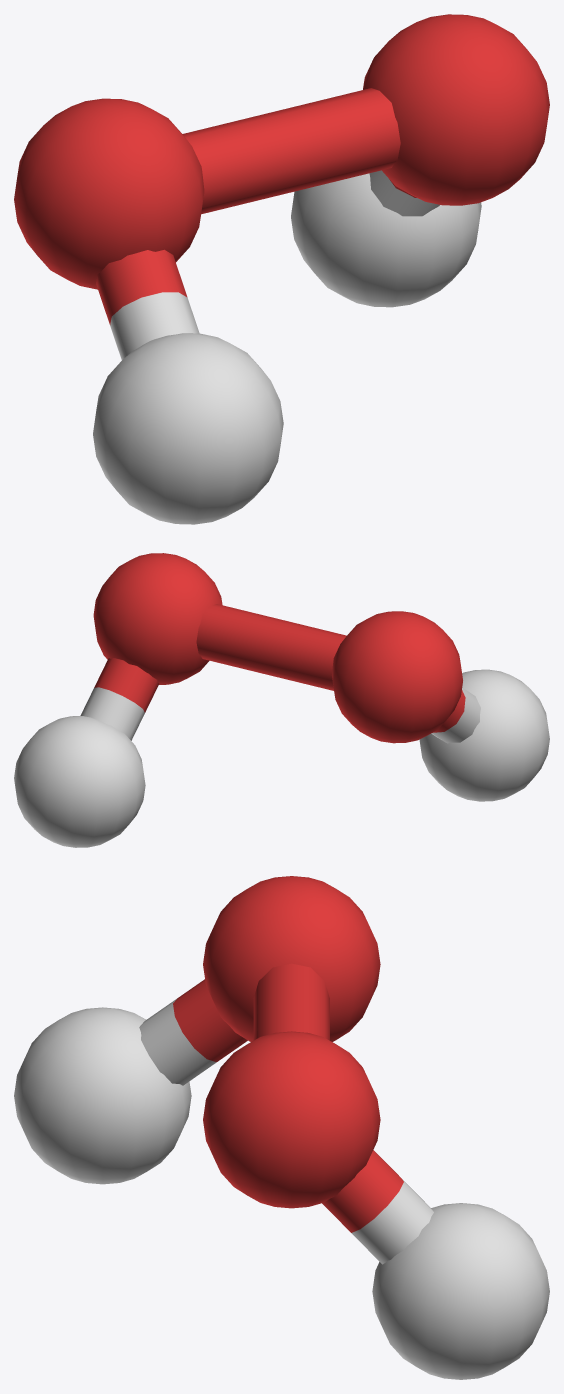
Rendered from h2o2-bas.glb.
3 renders of one model, top to bottom at view 1: azimuth 30°, elevation 25°; view 2: azimuth 150°, elevation 25°; view 3: azimuth 270°, elevation 25°, orthographic. The views are drawn at different scales.
Parts seen in each view (by area): view 1: h2o2-bas; view 2: h2o2-bas; view 3: h2o2-bas.
Part boxes in pixels (x1=…): h2o2-bas: x1=14, y1=14, x2=549, y2=524; h2o2-bas: x1=14, y1=553, x2=549, y2=847; h2o2-bas: x1=14, y1=876, x2=549, y2=1379.
Size of the model in its own units: 2.35 by 1.4 by 2.11.
